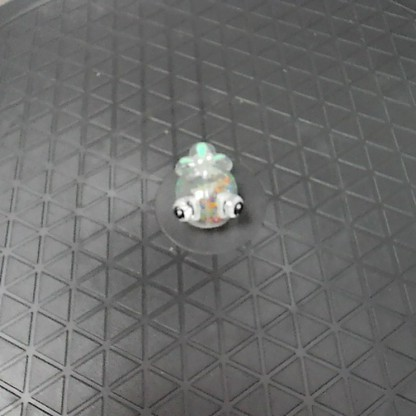whitefish: (168, 135, 248, 233)
